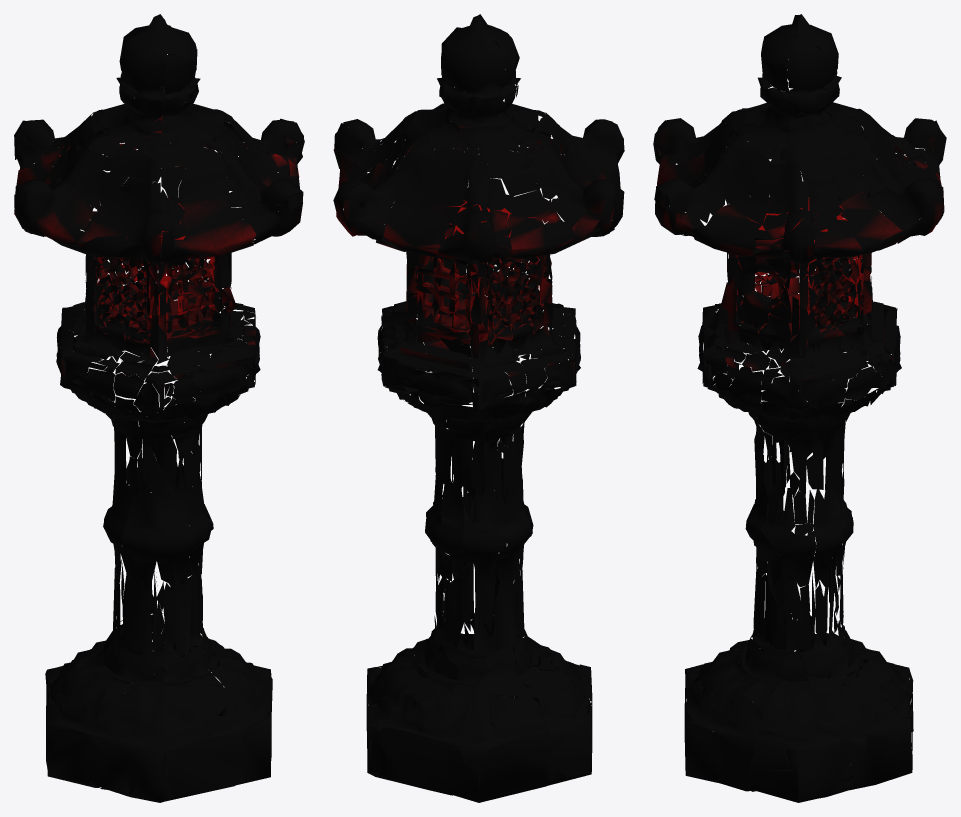
The model's file is prop_kasuga.glb.
3 renders of one model, left to right at view 1: azimuth 30°, elevation 25°; view 2: azimuth 150°, elevation 25°; view 3: azimuth 270°, elevation 25°, orthographic.
Parts seen in each view (by area): view 1: Mesh_0; view 2: Mesh_0; view 3: Mesh_0.
Part boxes in pixels (x1,y1,x2,y2): Mesh_0: (14, 14, 304, 802); Mesh_0: (333, 14, 624, 802); Mesh_0: (653, 14, 946, 802).
Size of the model in its own units: 0.7689 by 1.91 by 0.6888.
Materials: 1 (1 with a texture image).
